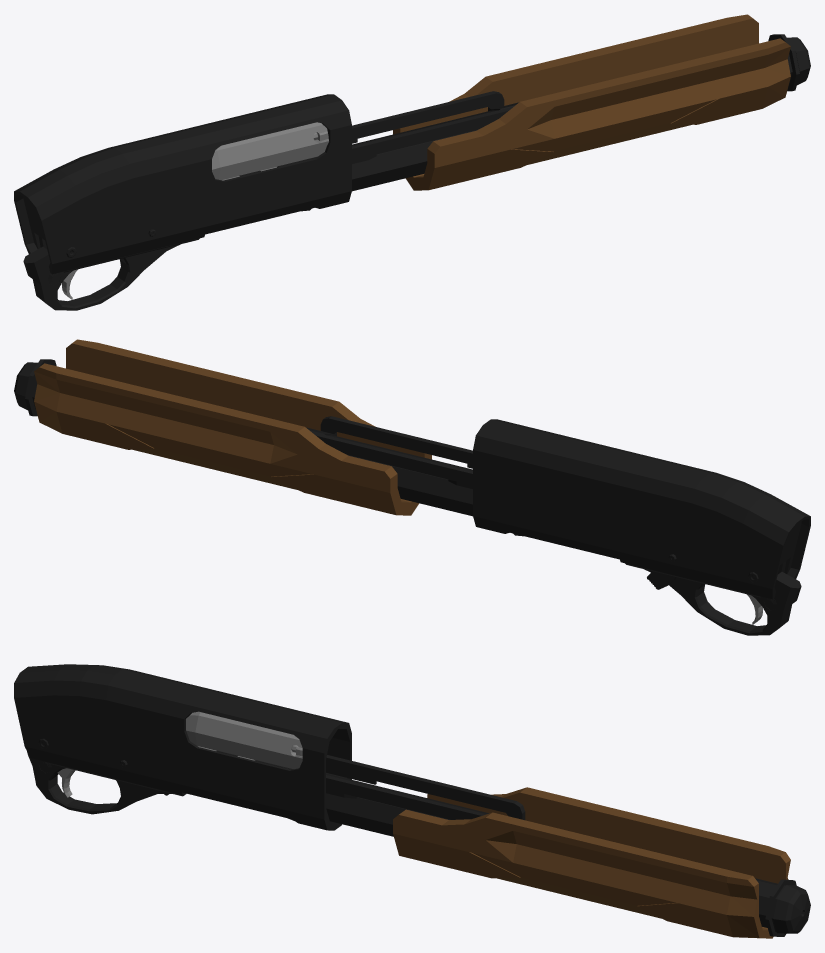
The model's file is remington_870.glb.
The picture shows the model from 3 angles, top to bottom: view 1: azimuth 30°, elevation 25°; view 2: azimuth 150°, elevation 25°; view 3: azimuth 330°, elevation 25°; orthographic projection.
Parts seen in each view (by area): view 1: rem870 receiver_1, rem870 pump forend_8 (×2), rem870 bolt_7; view 2: rem870 receiver_1, rem870 pump forend_8 (×2); view 3: rem870 receiver_1, rem870 pump forend_8 (×2), rem870 bolt_7.
Boxes of the visible parts, x1,y1,x2,y2 form: rem870 receiver_1: [14, 34, 810, 310]; rem870 pump forend_8 (×2): [239, 14, 790, 190]; rem870 bolt_7: [212, 122, 328, 180]; rem870 receiver_1: [14, 359, 810, 635]; rem870 pump forend_8 (×2): [34, 339, 472, 515]; rem870 receiver_1: [14, 664, 810, 936]; rem870 pump forend_8 (×2): [216, 750, 790, 938]; rem870 bolt_7: [186, 711, 302, 769].
Bounding box in the file's own units: 5 × 0.8921 × 0.4632.
